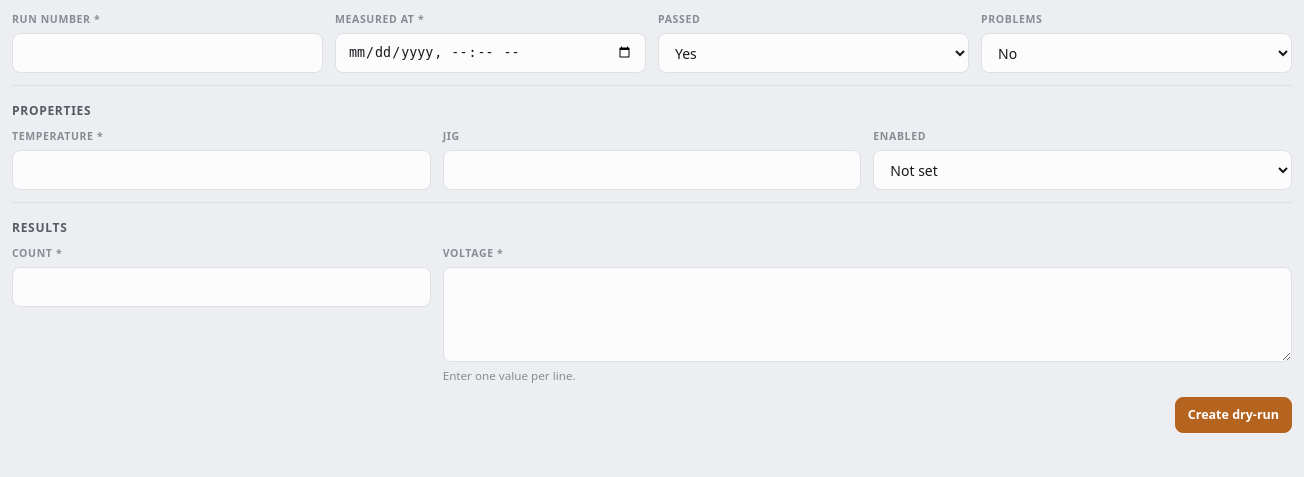
Test case: TestForm › still rejects mixed decimal separators
The image size is (1304, 477).
Type "5" into the field labelled "Run number *" at (168, 53), box [12,33,323,73]
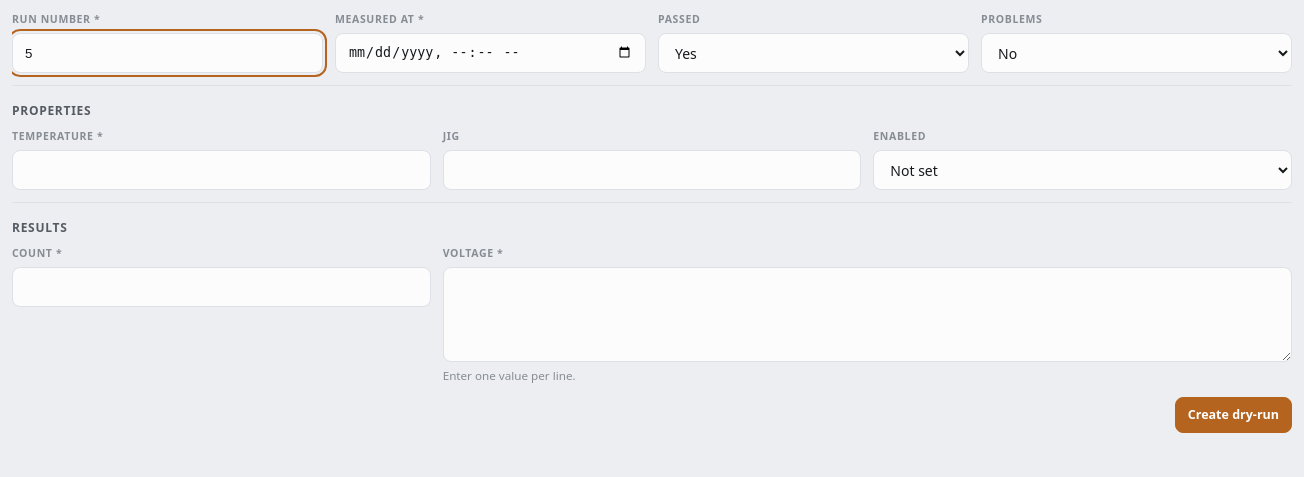
Type "2026-08-26T11:00" into the field labelled "Measured at *" at (490, 53), box [335,33,646,73]
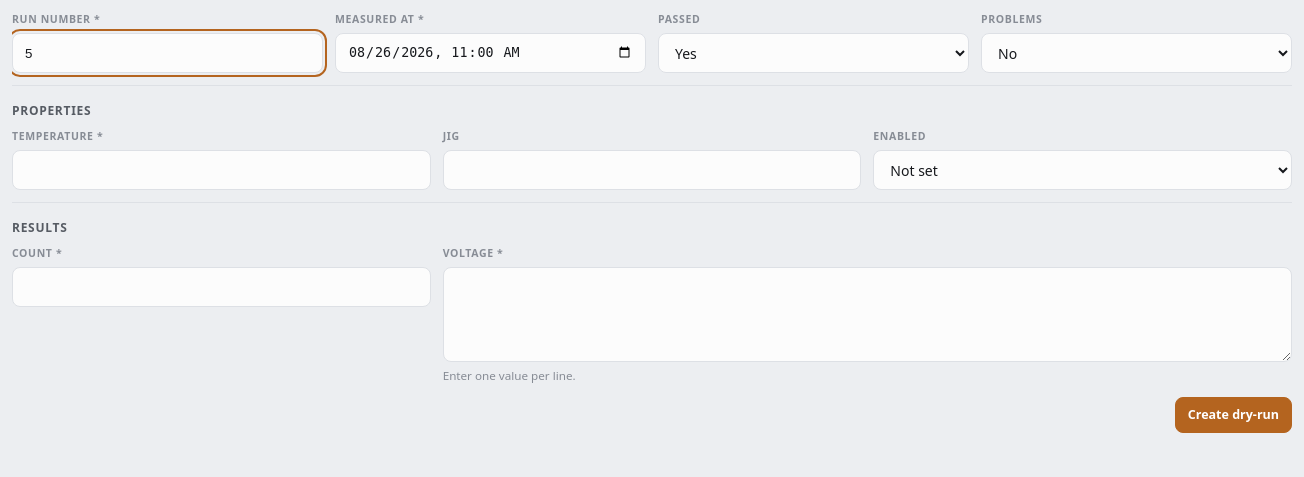
Type "1,2.3" into the field labelled "Temperature *" at (221, 170), box [12,150,431,190]
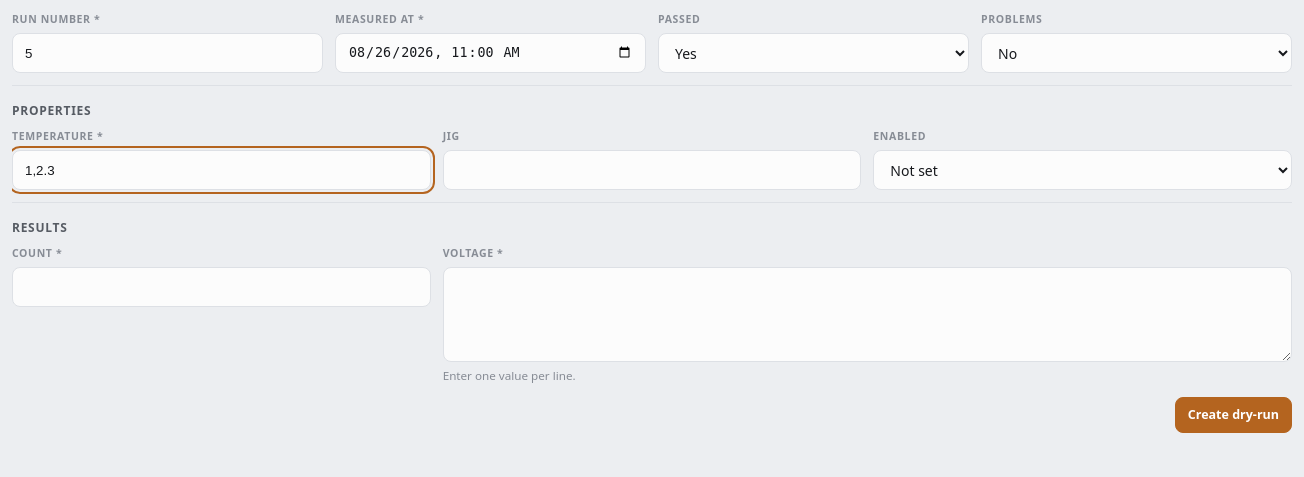
Type "7" into the number field labelled "Count *" at (221, 287), box [12,267,431,307]
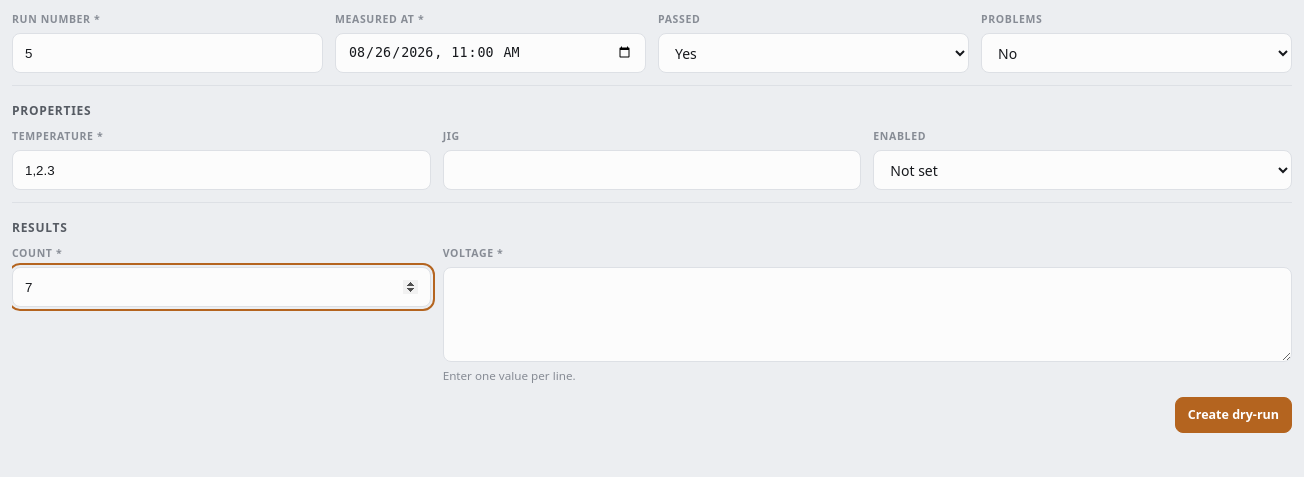
Type "1" into the text box labelled "Voltage * Enter one value per line." at (867, 315), box [443,267,1292,362]
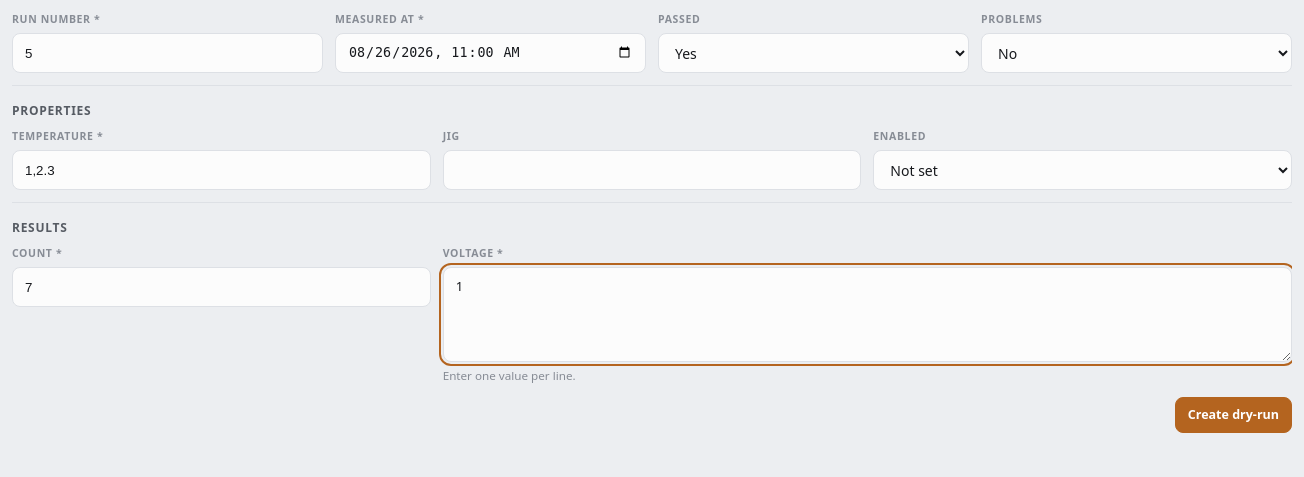
Click the button "Create dry-run" at (1233, 415), box [1175,397,1292,433]
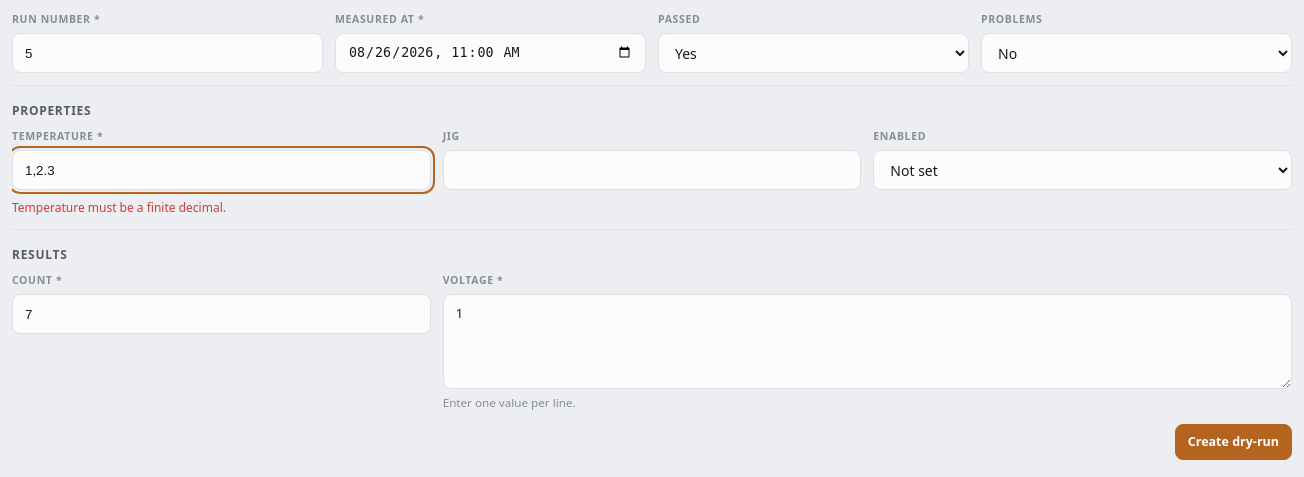
Expected: the text "Temperature must be a finite decimal." is shown, [12,199,226,216]
